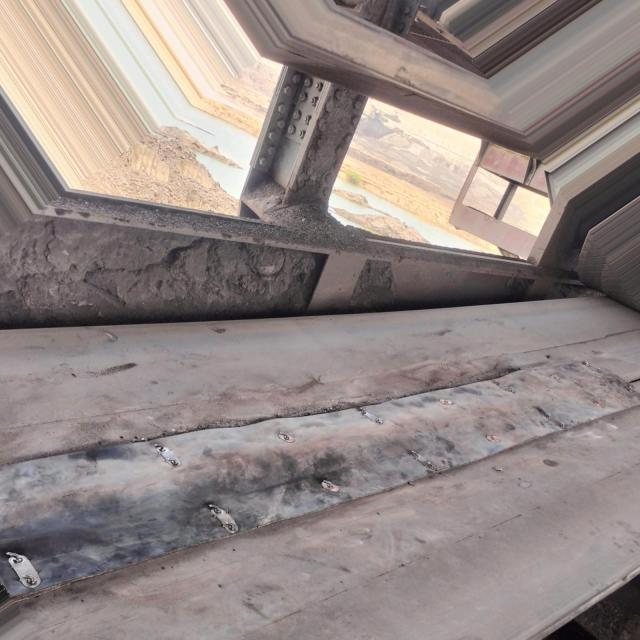patch work: (0, 350, 640, 607)
